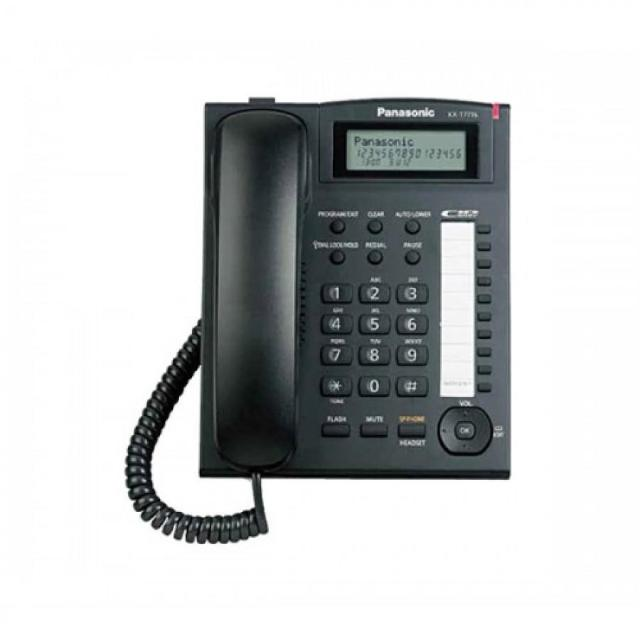Telephone-Set: (100, 49, 588, 555)
